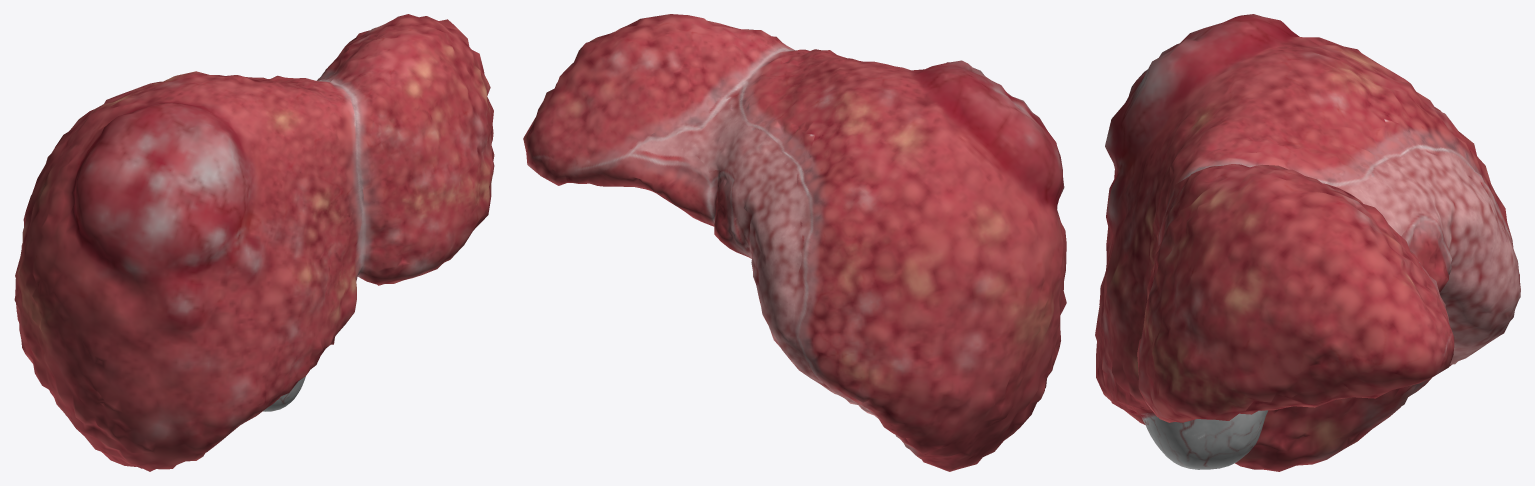
The model's file is HCC_Liver.glb.
The picture shows the model from 3 angles, left to right: view 1: azimuth 30°, elevation 25°; view 2: azimuth 150°, elevation 25°; view 3: azimuth 270°, elevation 25°; orthographic projection. The views are drawn at different scales.
Parts seen in each view (by area): view 1: HCC_Liver; view 2: HCC_Liver; view 3: HCC_Liver.
Boxes of the visible parts, x1,y1,x2,y2 form: HCC_Liver: [14, 14, 494, 471]; HCC_Liver: [523, 14, 1066, 471]; HCC_Liver: [1095, 14, 1520, 471].
Bounding box in the file's own units: 20.13 × 14.97 × 12.71.
1 material, 1 textured.
